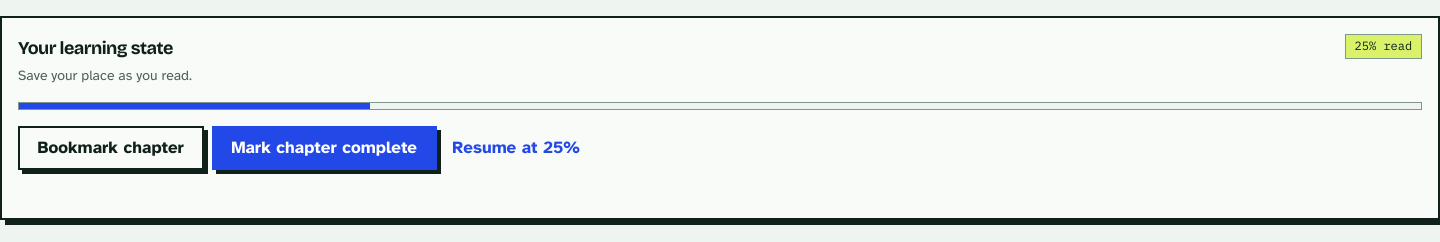
ChapterLearningControls › toggles a bookmark and completion for a verified learner
Later steps or results of the test are not shown.
Click the button "Bookmark chapter" at (111, 148), box top-left (18, 126), bottom-right (204, 170)
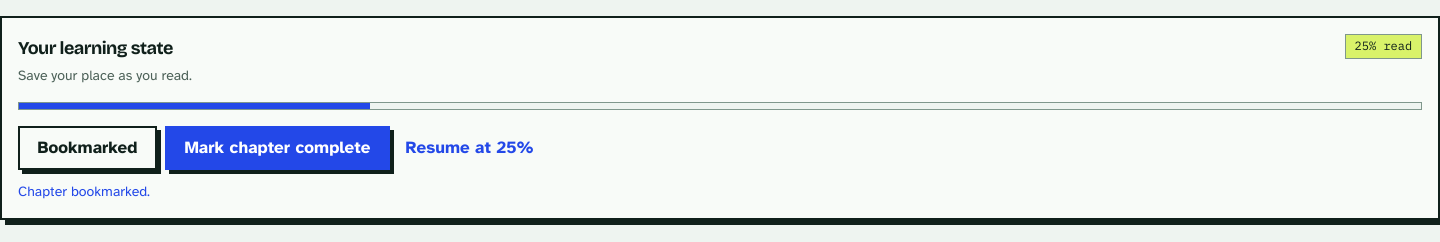
Now the button "Bookmarked" is shown, box top-left (18, 126), bottom-right (157, 170)
Now the text "Chapter bookmarked." is shown, box top-left (18, 183), bottom-right (150, 200)
Click the button "Mark chapter complete" at (277, 148), box top-left (165, 126), bottom-right (390, 170)
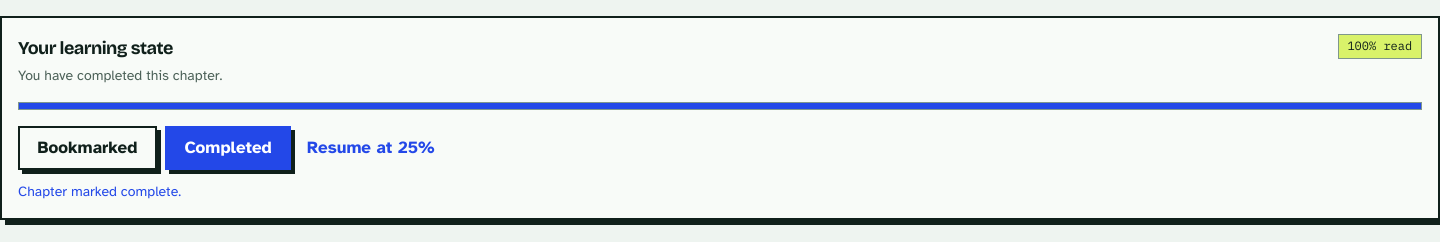
Now the button "Completed" is shown, box top-left (165, 126), bottom-right (291, 170)
Now the text "Chapter marked complete." is shown, box top-left (18, 183), bottom-right (181, 200)
